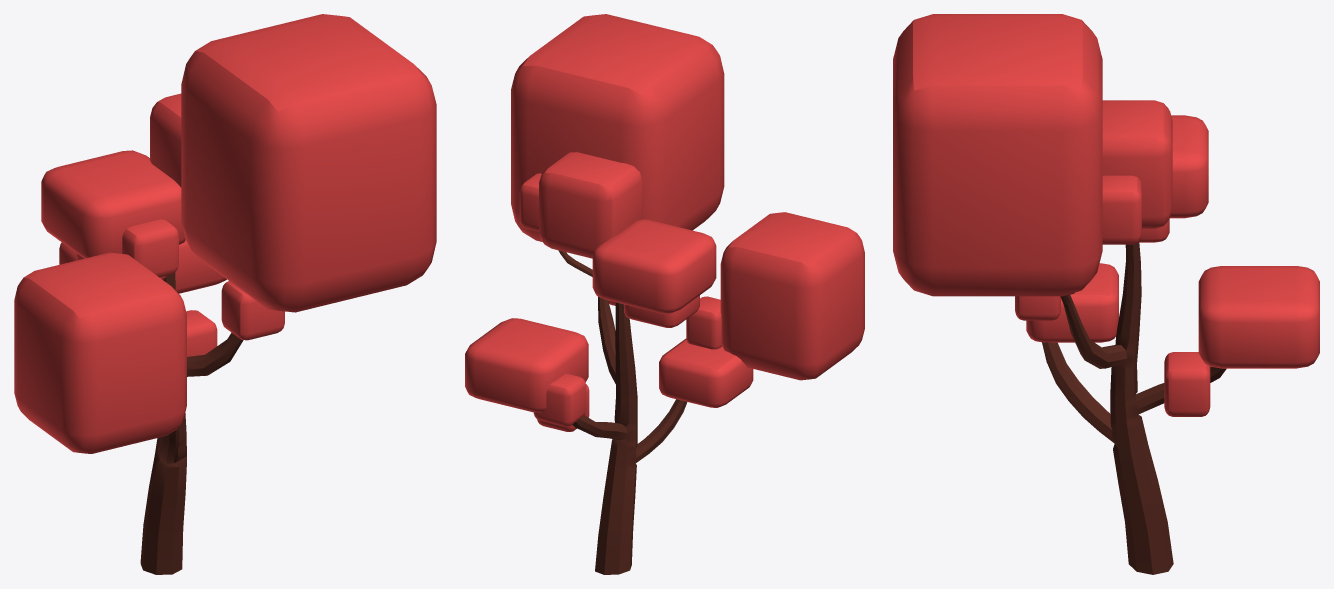
Rendered from Tree2.fbx.
The picture shows the model from 3 angles, left to right: view 1: azimuth 30°, elevation 25°; view 2: azimuth 150°, elevation 25°; view 3: azimuth 270°, elevation 25°; orthographic projection. The views are drawn at different scales.
Parts seen in each view (by area): view 1: Cylinder; view 2: Cylinder; view 3: Cylinder.
Part boxes in pixels (x1,y1,x2,y2): Cylinder: (14, 14, 436, 574); Cylinder: (465, 14, 864, 574); Cylinder: (893, 14, 1319, 574).
Bounding box in the file's own units: 2558 × 3754 × 2610.
